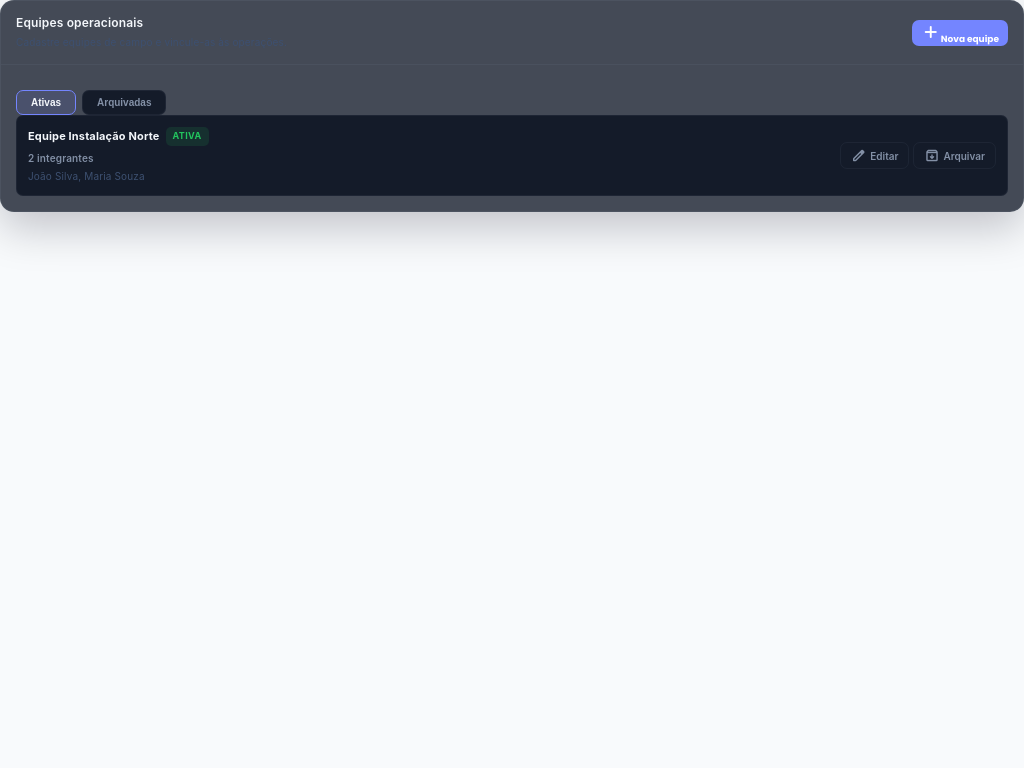
Test case: OperationTeamsPanel › cria uma equipe com integrantes e recalcula a contagem ao alternar ativo/inativo
Later steps or results of the test are not shown.
Click the button with test id "operation-team-new-btn" at (960, 33), box 912,20 -> 1008,46
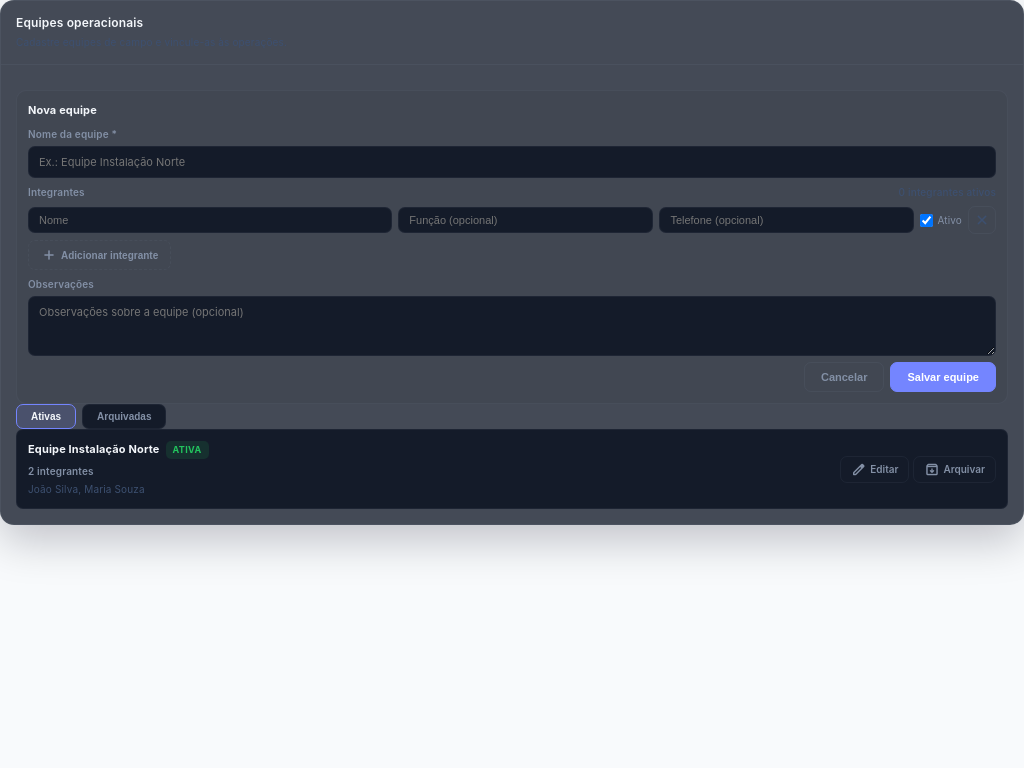
Type "Equipe Sul" into the field labelled "Nome da equipe *" at (512, 162), box 28,146 -> 996,178
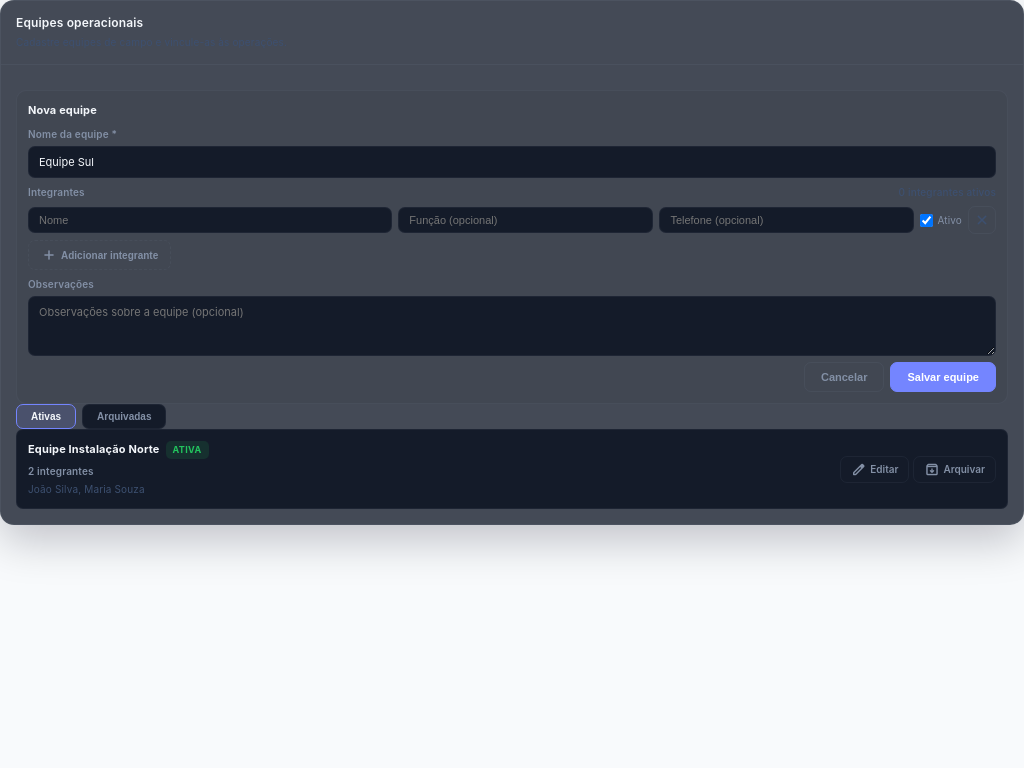
Type "Ana Lima" into the field named "Nome do integrante 1" at (210, 220), box 28,207 -> 392,233
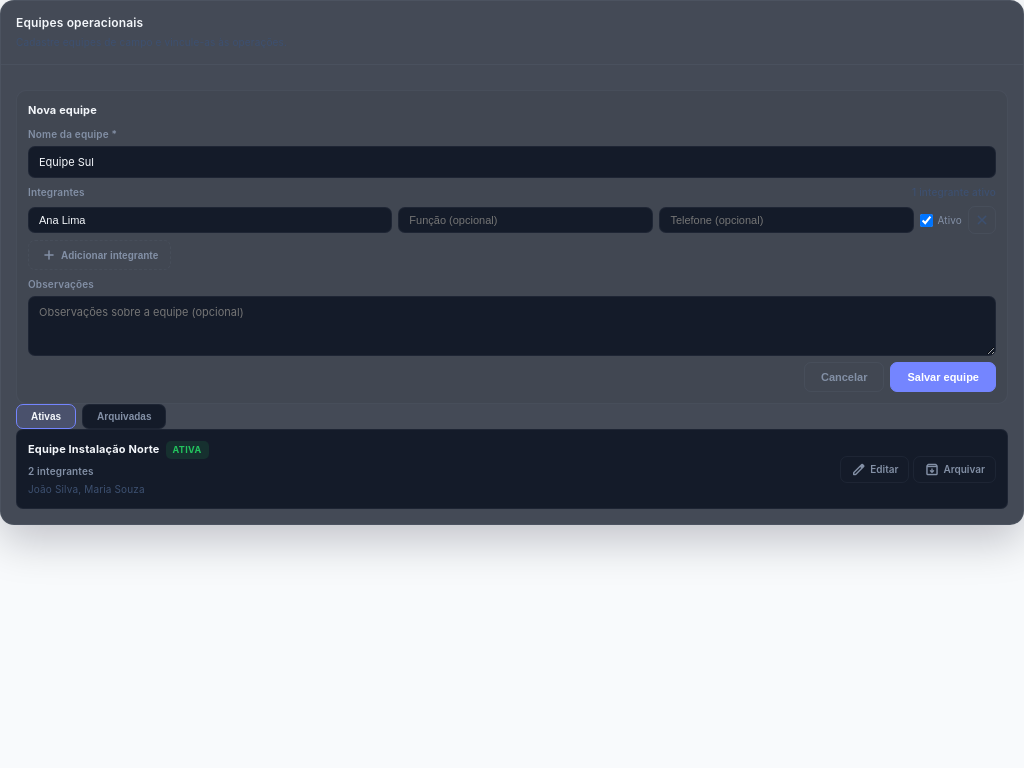
expect the text with test id "operation-team-member-count" reads "1 integrante ativo": met, box 912,184 -> 996,200
Click the checkbox labelled "Ativo" at (927, 220), box 920,214 -> 933,226
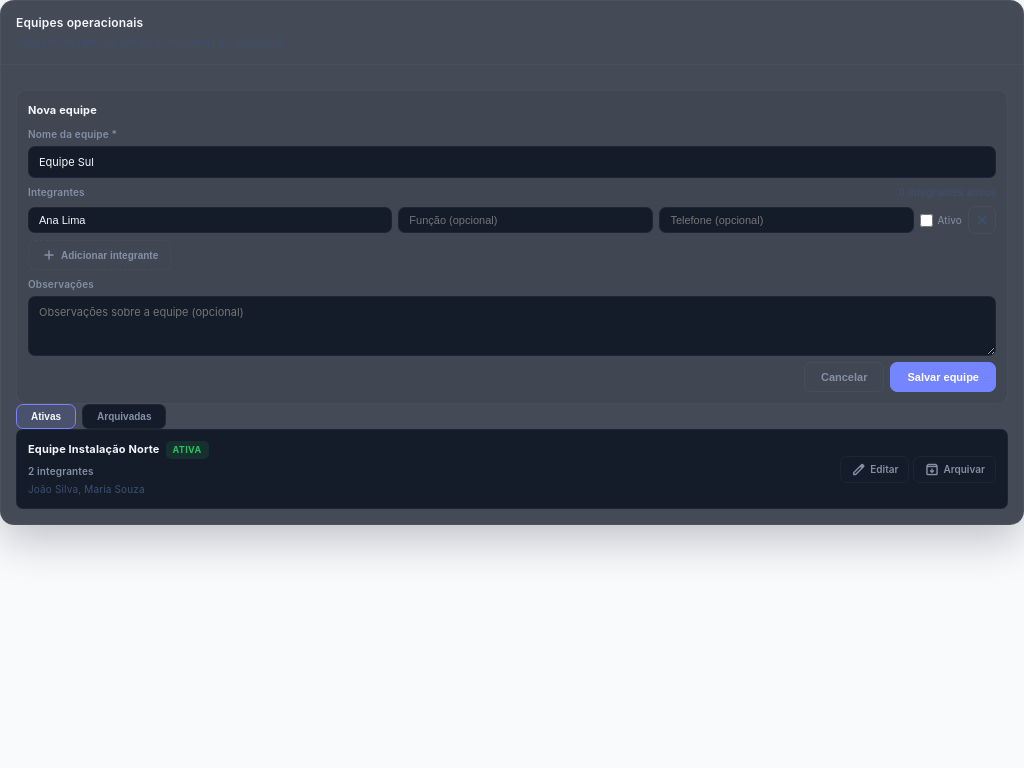
expect the text with test id "operation-team-member-count" reads "0 integrantes ativos": met, box 899,184 -> 996,200
Click the checkbox labelled "Ativo" at (927, 220), box 920,214 -> 933,226
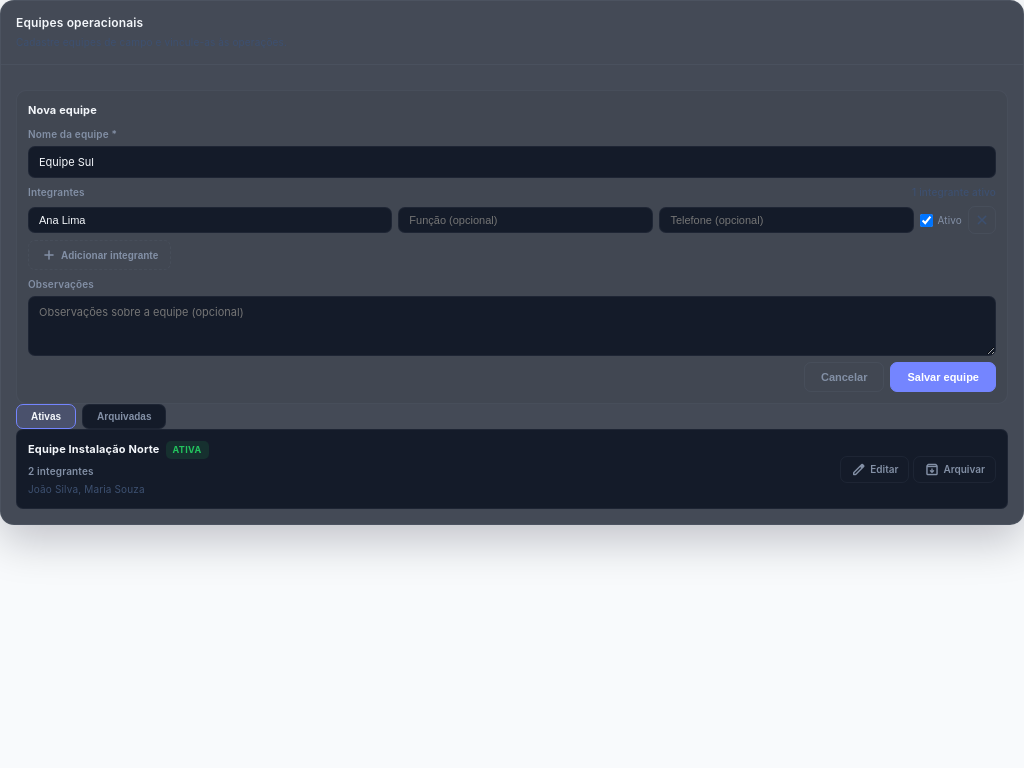
expect the text with test id "operation-team-member-count" reads "1 integrante ativo": met, box 912,184 -> 996,200
